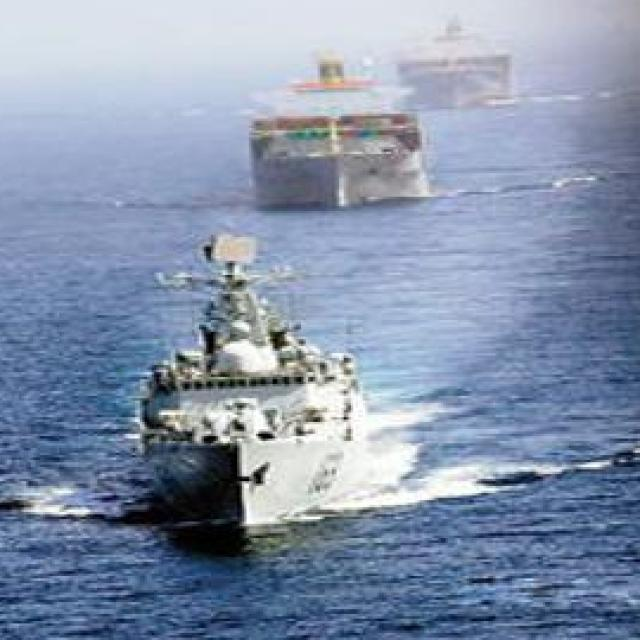navalvessels: (113, 207, 391, 530), (230, 56, 423, 212), (391, 10, 534, 109)
